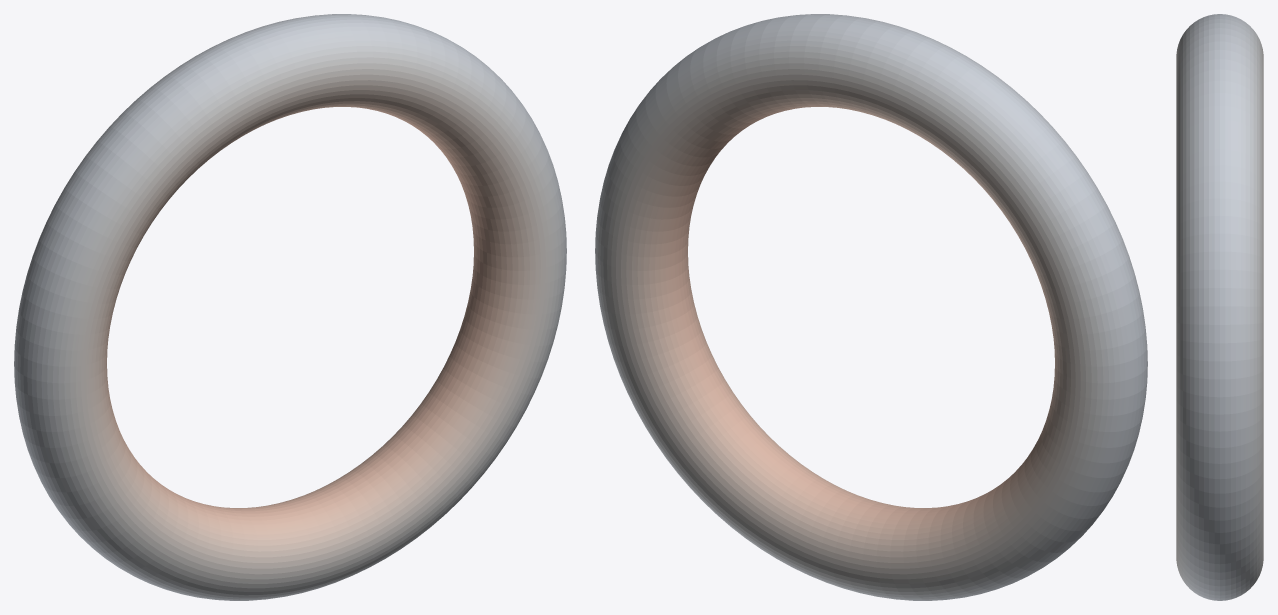
The picture shows the model from 3 angles, left to right: view 1: azimuth 30°, elevation 25°; view 2: azimuth 150°, elevation 25°; view 3: azimuth 270°, elevation 25°; orthographic projection. The views are drawn at different scales.
Visible parts, largest first — view 1: world; view 2: world; view 3: world.
Part boxes in pixels (bbox=[...]): world: bbox=[14, 14, 566, 600]; world: bbox=[595, 14, 1147, 600]; world: bbox=[1176, 14, 1263, 600].
Bounding box in the file's own units: 31.33 × 31.33 × 4.66.
